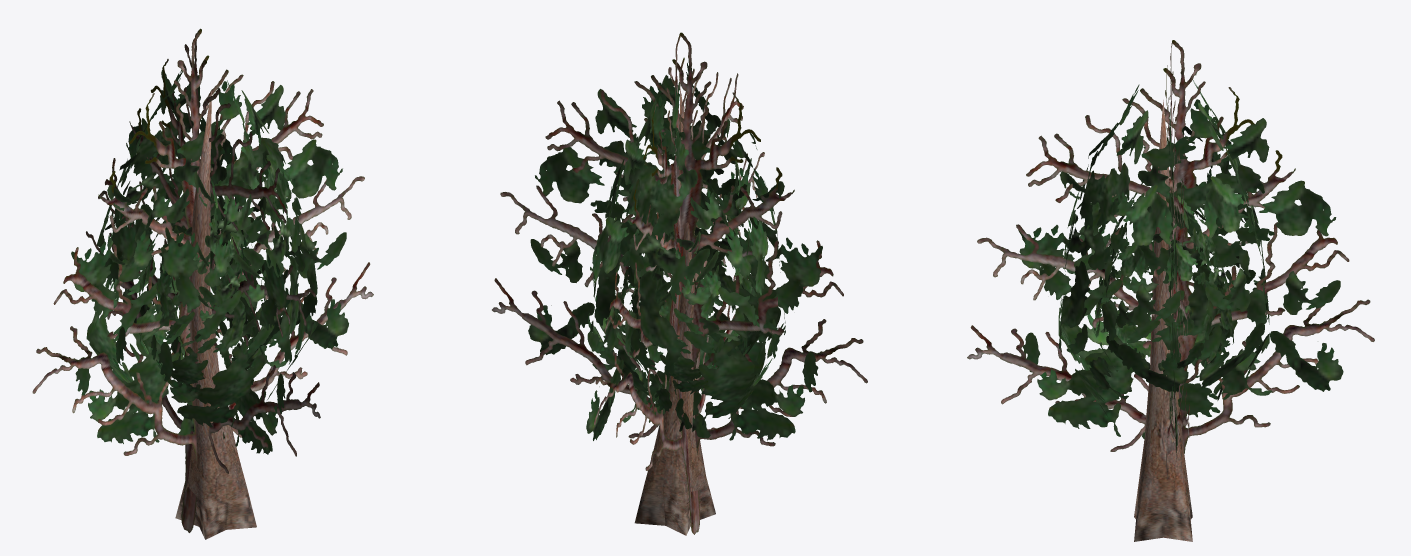
File: Sharp_Cedar08.gltf
The picture shows the model from 3 angles, left to right: view 1: azimuth 30°, elevation 25°; view 2: azimuth 150°, elevation 25°; view 3: azimuth 270°, elevation 25°; orthographic projection.
Parts seen in each view (by area): view 1: Cfol, Bfol, Trunk, AAFol; view 2: Cfol, Bfol, Trunk, AAFol; view 3: Cfol, Bfol, Trunk, AAFol.
Part boxes in pixels (x1=…): Cfol: x1=32, y1=28, x2=373, y2=532; Bfol: x1=86, y1=65, x2=318, y2=427; Trunk: x1=175, y1=90, x2=256, y2=539; AAFol: x1=136, y1=179, x2=270, y2=392; Cfol: x1=492, y1=32, x2=867, y2=534; Bfol: x1=588, y1=60, x2=785, y2=431; Trunk: x1=634, y1=88, x2=715, y2=535; AAFol: x1=615, y1=180, x2=761, y2=394; Cfol: x1=967, y1=40, x2=1374, y2=479; Bfol: x1=1058, y1=80, x2=1269, y2=416; Trunk: x1=1134, y1=100, x2=1192, y2=541; AAFol: x1=1093, y1=179, x2=1233, y2=384.
Bounding box in the file's own units: 9.96 × 11.7 × 9.96.
Materials: 2 (2 with a texture image).
